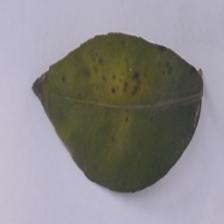black spot: (63, 34, 181, 104)
